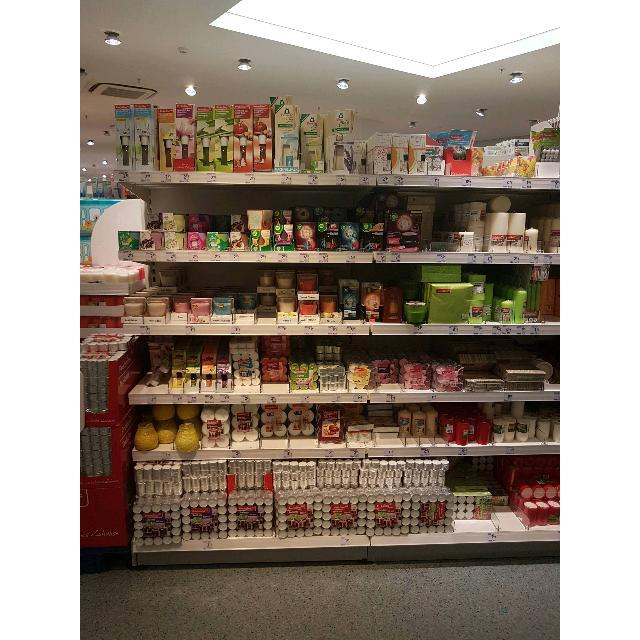front: (374, 438, 440, 448), (260, 438, 318, 448), (454, 520, 492, 534), (492, 506, 511, 532), (132, 386, 172, 394), (262, 382, 288, 393), (258, 312, 276, 326), (234, 386, 262, 394), (232, 441, 260, 449), (318, 444, 374, 448), (374, 383, 398, 392), (540, 315, 558, 325), (348, 388, 374, 394), (420, 246, 442, 252), (319, 391, 346, 394), (342, 320, 362, 324), (235, 320, 255, 324), (398, 390, 432, 392), (291, 390, 319, 392), (172, 388, 184, 392), (171, 321, 187, 324), (483, 322, 497, 324)
